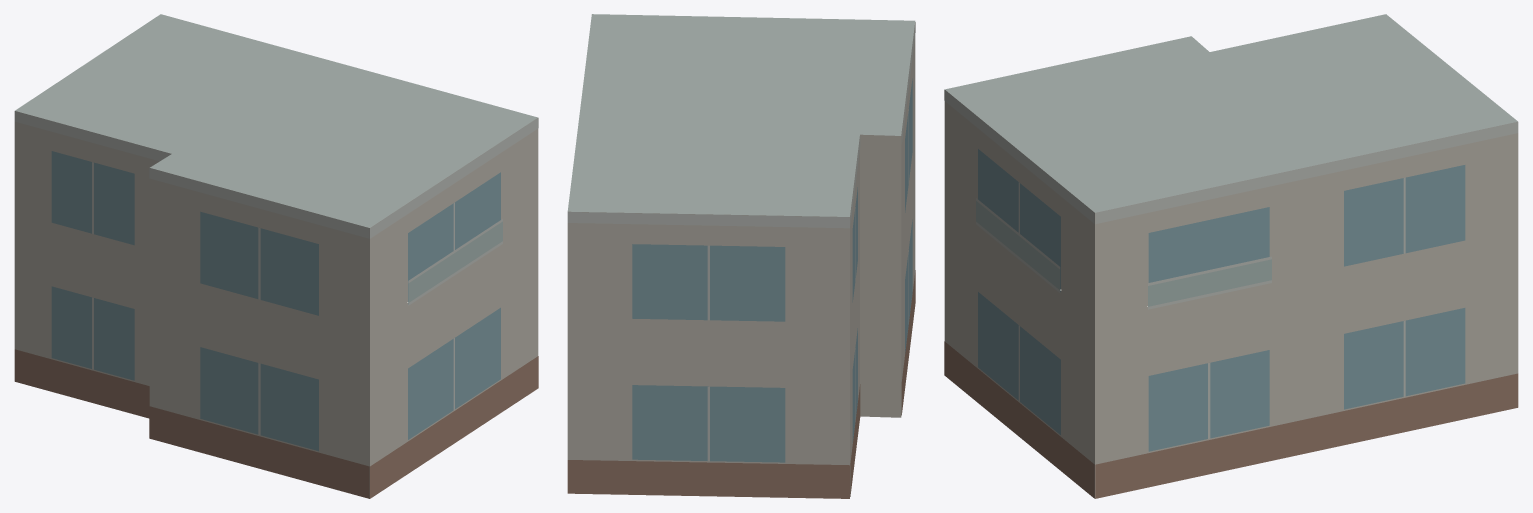
The model's file is survey-upis-32719294.glb.
3 views of the same model, side by side, from view 1: azimuth 30°, elevation 25°; view 2: azimuth 150°, elevation 25°; view 3: azimuth 270°, elevation 25° (orthographic). The views are drawn at different scales.
Visible parts, largest first — view 1: survey-upis-32719294.tmp; view 2: survey-upis-32719294.tmp; view 3: survey-upis-32719294.tmp.
Part boxes in pixels (x1,y1,x2,y2): survey-upis-32719294.tmp: (14, 14, 538, 498); survey-upis-32719294.tmp: (567, 14, 915, 498); survey-upis-32719294.tmp: (944, 14, 1518, 498).
Bounding box in the file's own units: 9.11 × 6.1 × 11.1.
